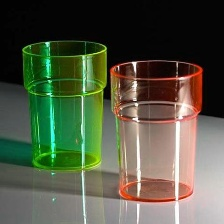glass: (104, 57, 212, 205), (16, 36, 115, 177)
